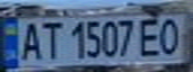0: (100, 17, 121, 57)
1: (66, 18, 87, 58)
5: (81, 17, 103, 59)
7: (115, 16, 139, 57)
A: (15, 16, 45, 62)
E: (136, 16, 166, 57)
O: (154, 16, 187, 56)
T: (36, 17, 66, 60)
